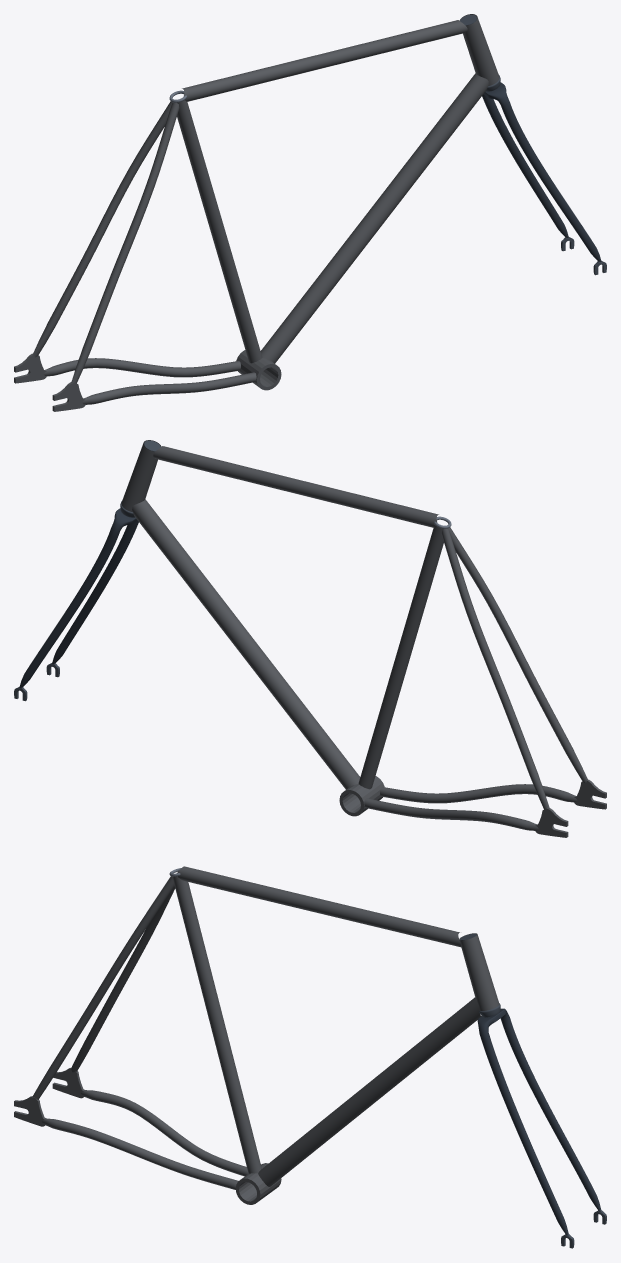
File: wabi-prism-54.glb
3 views of the same model, one above another, from view 1: azimuth 30°, elevation 25°; view 2: azimuth 150°, elevation 25°; view 3: azimuth 330°, elevation 25° (orthographic).
Visible parts, largest first — view 1: paint_down, paint_top, paint_seat, paint_seatstay_1, paint_seatstay_-1, paint_chainstay_-1, paint_chainstay_1, fork_blade_1, fork_blade_-1, paint_head, paint_bottom_bracket, rear_dropout_1 (+1 smaller); view 2: paint_down, paint_top, paint_seat, paint_seatstay_-1, paint_seatstay_1, paint_chainstay_1, paint_chainstay_-1, fork_blade_-1, fork_blade_1, paint_head, paint_bottom_bracket, rear_dropout_-1 (+1 smaller); view 3: paint_down, paint_seat, paint_top, paint_seatstay_1, paint_chainstay_1, fork_blade_1, paint_chainstay_-1, fork_blade_-1, paint_seatstay_-1, paint_head, paint_bottom_bracket, rear_dropout_1 (+1 smaller).
Part boxes in pixels (x1=…): paint_down: x1=260, y1=73, x2=488, y2=363; paint_top: x1=182, y1=20, x2=467, y2=101; paint_seat: x1=177, y1=100, x2=262, y2=363; paint_seatstay_1: x1=71, y1=102, x2=179, y2=382; paint_seatstay_-1: x1=32, y1=101, x2=172, y2=357; paint_chainstay_-1: x1=43, y1=358, x2=240, y2=377; paint_chainstay_1: x1=82, y1=372, x2=256, y2=404; fork_blade_1: x1=501, y1=102, x2=601, y2=261; fork_blade_-1: x1=482, y1=94, x2=568, y2=237; paint_head: x1=459, y1=14, x2=499, y2=85; paint_bottom_bracket: x1=236, y1=350, x2=281, y2=390; rear_dropout_1: x1=52, y1=382, x2=85, y2=411; paint_down: x1=132, y1=499, x2=360, y2=789; paint_top: x1=153, y1=446, x2=438, y2=527; paint_seat: x1=358, y1=526, x2=443, y2=789; paint_seatstay_-1: x1=441, y1=528, x2=549, y2=808; paint_seatstay_1: x1=448, y1=527, x2=588, y2=783; paint_chainstay_1: x1=380, y1=784, x2=577, y2=803; paint_chainstay_-1: x1=364, y1=798, x2=538, y2=830; fork_blade_-1: x1=19, y1=528, x2=119, y2=687; fork_blade_1: x1=52, y1=520, x2=138, y2=663; paint_head: x1=121, y1=440, x2=161, y2=511; paint_bottom_bracket: x1=339, y1=776, x2=384, y2=816; rear_dropout_-1: x1=535, y1=808, x2=568, y2=837; paint_down: x1=258, y1=997, x2=481, y2=1186; paint_seat: x1=172, y1=876, x2=261, y2=1173; paint_top: x1=177, y1=866, x2=460, y2=947; paint_seatstay_1: x1=32, y1=876, x2=174, y2=1099; paint_chainstay_1: x1=42, y1=1118, x2=238, y2=1189; fork_blade_1: x1=480, y1=1032, x2=568, y2=1235; paint_chainstay_-1: x1=81, y1=1090, x2=248, y2=1176; fork_blade_-1: x1=501, y1=1017, x2=601, y2=1211; paint_seatstay_-1: x1=71, y1=886, x2=175, y2=1072; paint_head: x1=459, y1=933, x2=499, y2=1010; paint_bottom_bracket: x1=235, y1=1163, x2=281, y2=1204; rear_dropout_1: x1=14, y1=1096, x2=45, y2=1126.
Size of the model in its own units: 1.03 by 0.5579 by 0.144.
